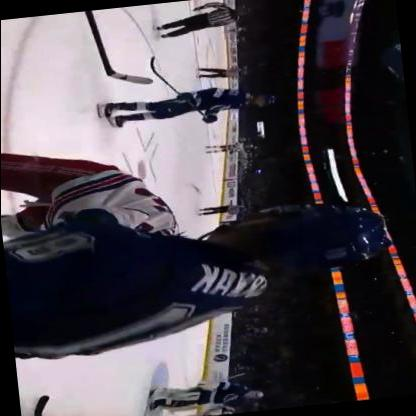non-Voilence: (1, 114, 400, 363), (94, 80, 282, 139)
